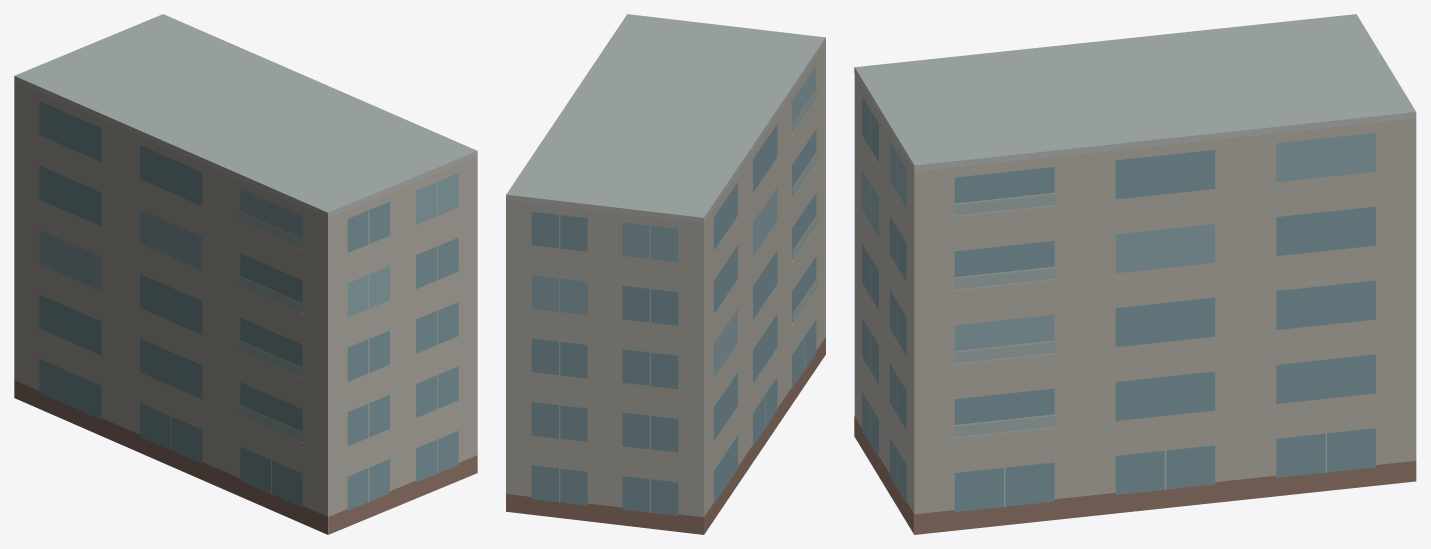
The model's file is survey-upis-32765354.glb.
3 views of the same model, side by side, from view 1: azimuth 30°, elevation 25°; view 2: azimuth 150°, elevation 25°; view 3: azimuth 270°, elevation 25° (orthographic). The views are drawn at different scales.
Visible parts, largest first — view 1: survey-upis-32765354.tmp; view 2: survey-upis-32765354.tmp; view 3: survey-upis-32765354.tmp.
Boxes of the visible parts, x1,y1,x2,y2 form: survey-upis-32765354.tmp: (14,14,477,534); survey-upis-32765354.tmp: (506,14,825,534); survey-upis-32765354.tmp: (854,14,1416,534).
Bounding box in the file's own units: 12.49 × 14.2 × 19.58.
